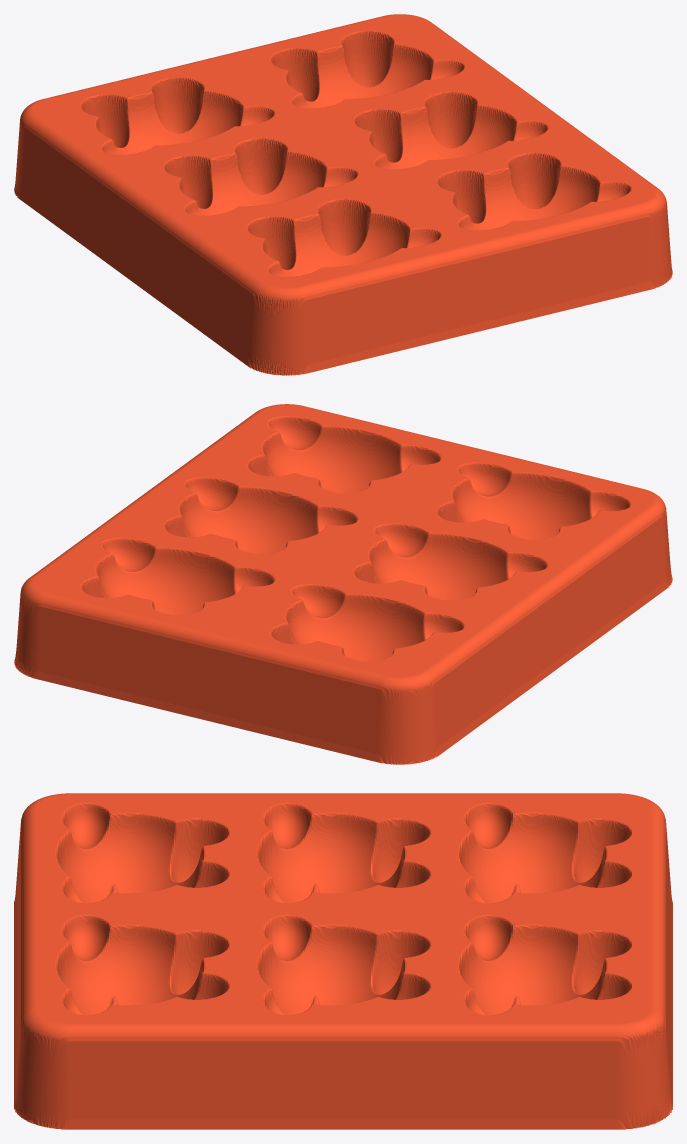
The model's file is mold.glb.
3 renders of one model, top to bottom at view 1: azimuth 30°, elevation 25°; view 2: azimuth 150°, elevation 25°; view 3: azimuth 270°, elevation 25°, orthographic. The views are drawn at different scales.
Parts seen in each view (by area): view 1: geometry_0; view 2: geometry_0; view 3: geometry_0.
Part boxes in pixels (box(x1,y1,x2,y2)): geometry_0: box(14, 14, 672, 375); geometry_0: box(14, 404, 672, 764); geometry_0: box(14, 793, 672, 1129).
Size of the model in its own units: 0.0955 by 0.0174 by 0.1075.
